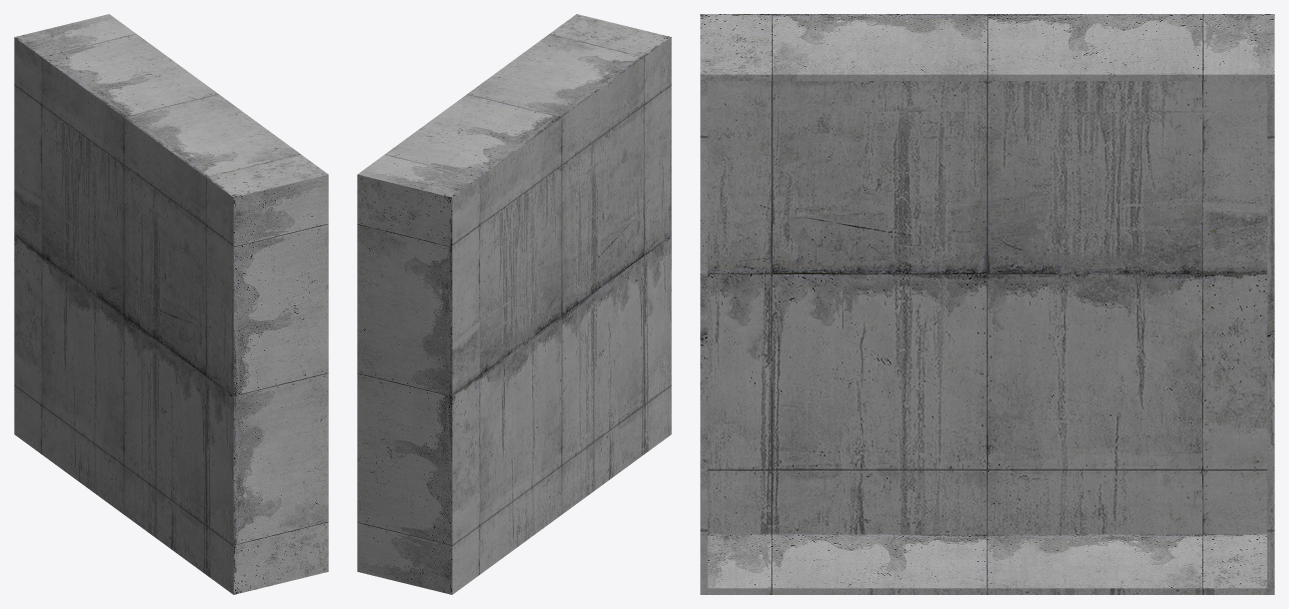
3 renders of one model, left to right at view 1: azimuth 30°, elevation 25°; view 2: azimuth 150°, elevation 25°; view 3: azimuth 270°, elevation 25°, orthographic. The views are drawn at different scales.
Visible parts, largest first — view 1: SM_Box_1_LOD0; view 2: SM_Box_1_LOD0; view 3: SM_Box_1_LOD0.
Part boxes in pixels (x1=…): SM_Box_1_LOD0: x1=14, y1=14, x2=328, y2=594; SM_Box_1_LOD0: x1=357, y1=14, x2=671, y2=594; SM_Box_1_LOD0: x1=700, y1=14, x2=1274, y2=594.
Size of the model in its own units: 200 by 800 by 800.
1 material, 1 textured.
